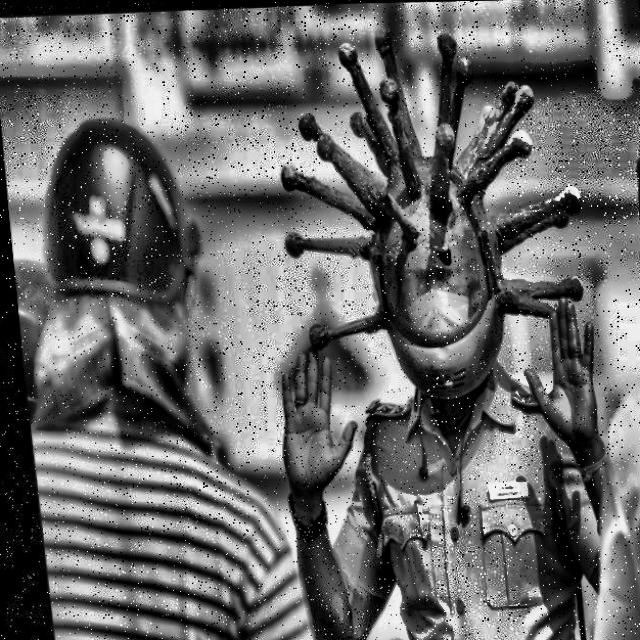Helmet: (252, 9, 599, 414), (13, 104, 218, 420)
